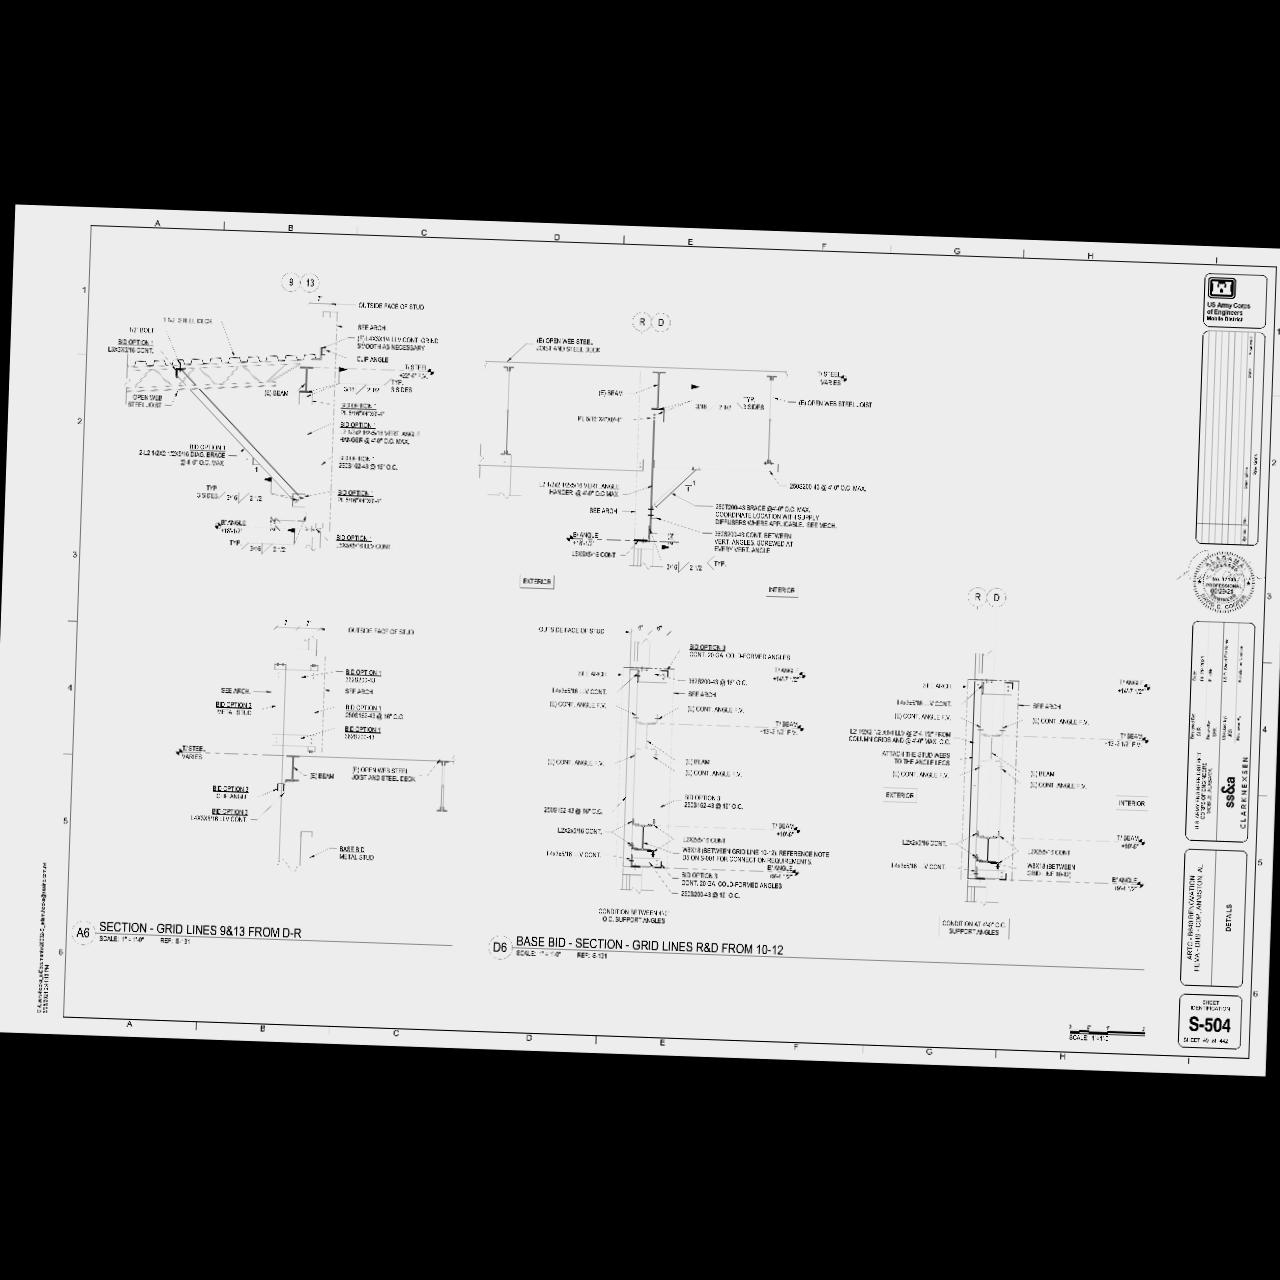title: (483, 930, 1149, 987), (67, 914, 458, 962)
